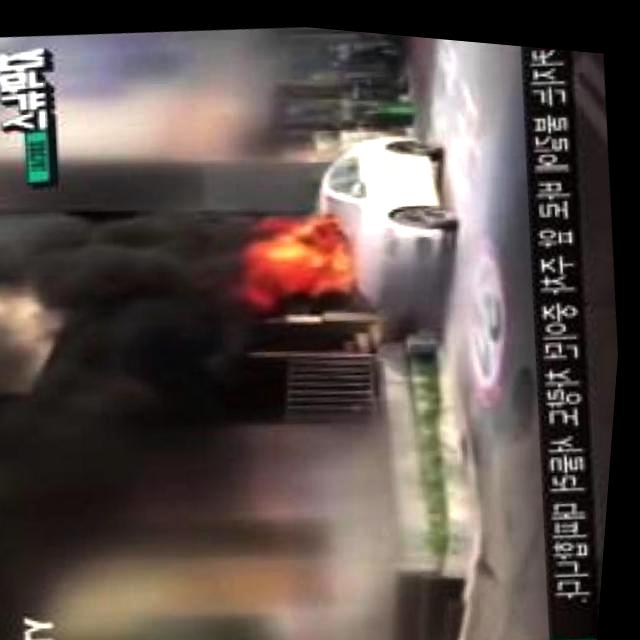fire: (250, 210, 354, 302)
